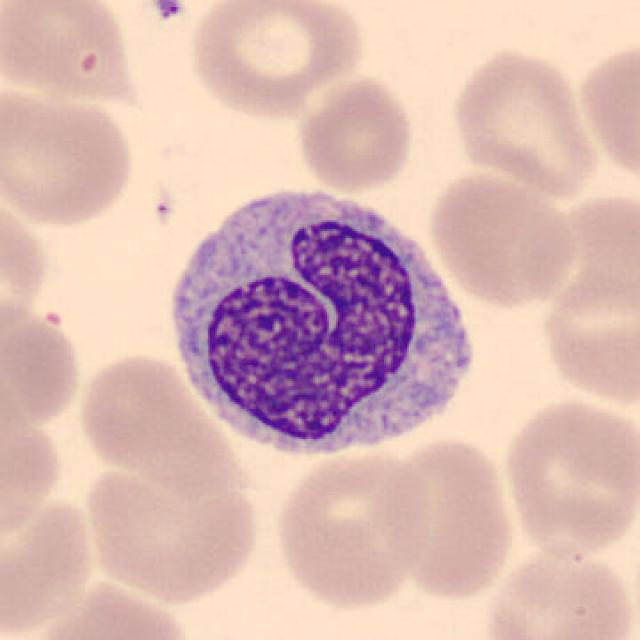Monocyte: (157, 175, 490, 474)
Platelets: (148, 0, 188, 23)
RBC: (76, 455, 265, 606), (270, 442, 434, 614), (446, 42, 603, 201), (377, 432, 519, 601), (500, 393, 638, 563), (73, 348, 238, 488), (183, 0, 370, 122), (425, 168, 581, 308), (0, 83, 139, 229), (526, 187, 638, 345), (293, 72, 418, 196), (537, 256, 638, 409), (479, 546, 636, 640), (0, 490, 100, 637), (2, 0, 140, 106), (16, 576, 195, 640), (0, 303, 85, 431), (572, 36, 640, 190), (0, 190, 53, 336)
